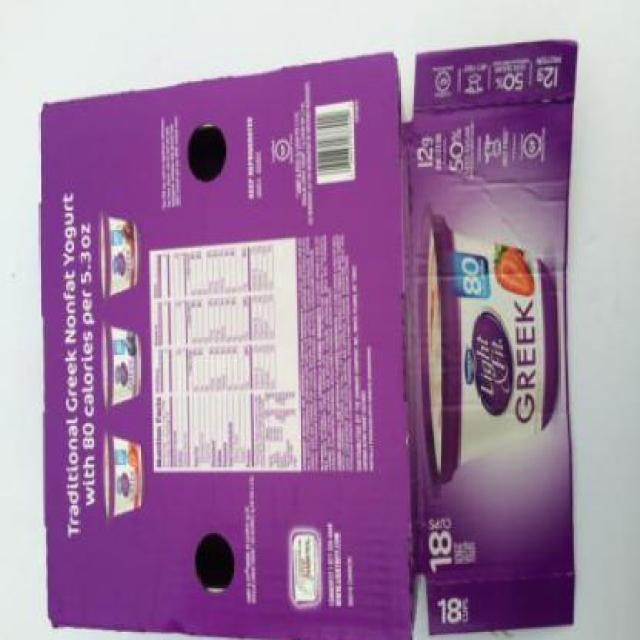box: (20, 26, 611, 640)
